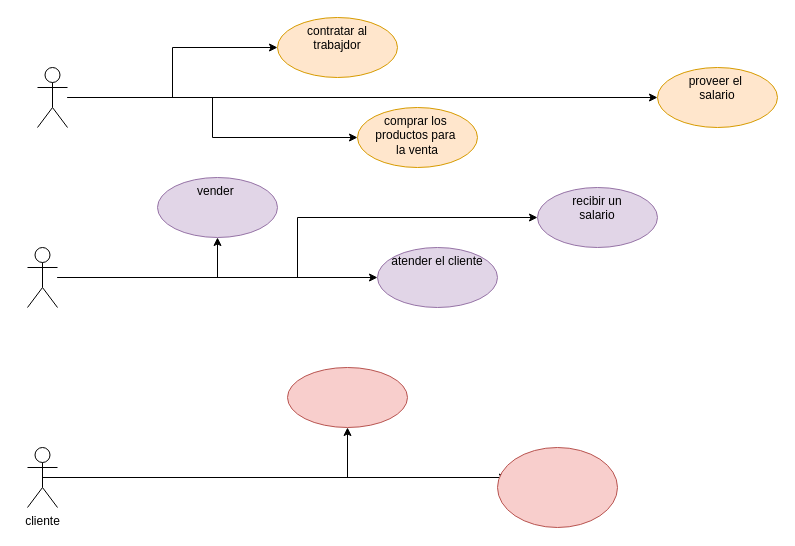
Some shapes in this 795 by 546 pixel diagram are drawn without their labels. Each missing label, with the box of its shape:
admin: (36, 66, 68, 128)
Comprador de productos: (286, 366, 408, 428)
trabajdor: (26, 246, 58, 308)
